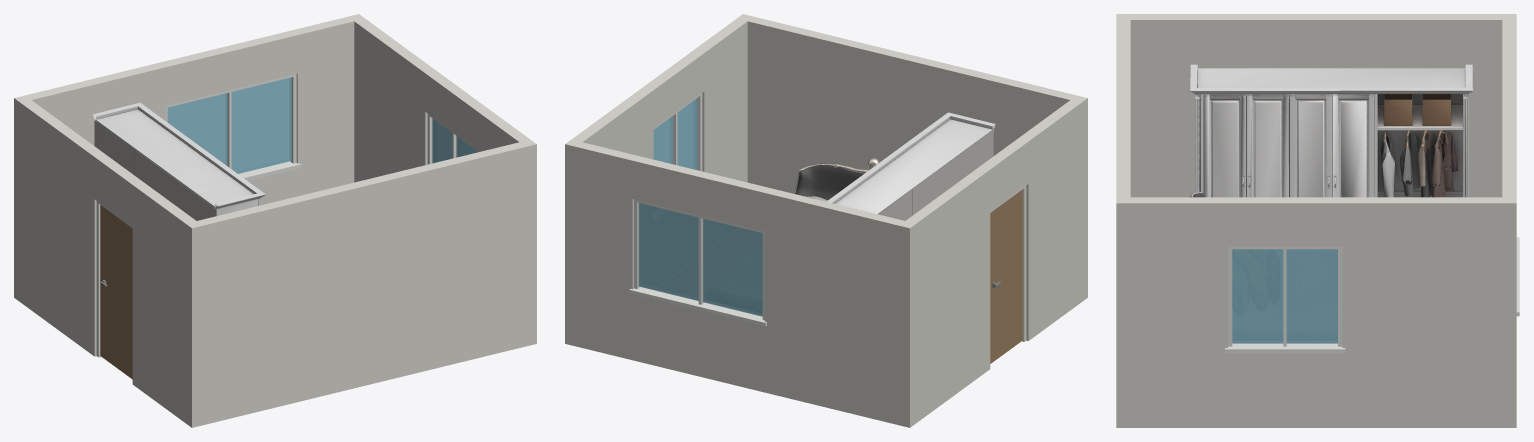
File: instructscene.glb
The picture shows the model from 3 angles, left to right: view 1: azimuth 30°, elevation 25°; view 2: azimuth 150°, elevation 25°; view 3: azimuth 270°, elevation 25°; orthographic projection. The views are drawn at different scales.
Parts seen in each view (by area): view 1: wall|scenesmith_000__R00|0, wall|scenesmith_000__R00|2, wall|scenesmith_000__R00|1, wall|scenesmith_000__R00|3, raw_model.001, wall|scenesmith_000__R00|1 Window 0 | glazing, wall|scenesmith_000__R00|2 Door 0 | wood leaf, wall|scenesmith_000__R00|1 Window 0 | jamb, wall|scenesmith_000__R00|3 Window 0 | glazing, wall|scenesmith_000__R00|2 Door 0 | jamb, wall|scenesmith_000__R00|3 Window 0 | jamb; view 2: wall|scenesmith_000__R00|1, wall|scenesmith_000__R00|2, wall|scenesmith_000__R00|0, wall|scenesmith_000__R00|3, wall|scenesmith_000__R00|1 Window 0 | glazing, raw_model.001, wall|scenesmith_000__R00|2 Door 0 | wood leaf, wall|scenesmith_000__R00|1 Window 0 | jamb, wall|scenesmith_000__R00|3 Window 0 | glazing, raw_model, wall|scenesmith_000__R00|3 Window 0 | jamb, wall|scenesmith_000__R00|2 Door 0 | jamb; view 3: wall|scenesmith_000__R00|3, raw_model.001, wall|scenesmith_000__R00|2, wall|scenesmith_000__R00|3 Window 0 | glazing, wall|scenesmith_000__R00|3 Window 0 | jamb, wall|scenesmith_000__R00|0, wall|scenesmith_000__R00|1.
Boxes of the visible parts, bbox=[...] form: wall|scenesmith_000__R00|0: bbox=[185, 142, 526, 427]; wall|scenesmith_000__R00|2: bbox=[14, 95, 202, 427]; wall|scenesmith_000__R00|1: bbox=[25, 16, 354, 205]; wall|scenesmith_000__R00|3: bbox=[348, 14, 536, 346]; raw_model.001: bbox=[92, 102, 265, 220]; wall|scenesmith_000__R00|1 Window 0 | glazing: bbox=[167, 77, 291, 173]; wall|scenesmith_000__R00|2 Door 0 | wood leaf: bbox=[100, 205, 132, 379]; wall|scenesmith_000__R00|1 Window 0 | jamb: bbox=[165, 74, 301, 180]; wall|scenesmith_000__R00|3 Window 0 | glazing: bbox=[432, 118, 476, 163]; wall|scenesmith_000__R00|2 Door 0 | jamb: bbox=[96, 201, 132, 357]; wall|scenesmith_000__R00|3 Window 0 | jamb: bbox=[427, 114, 476, 164]; wall|scenesmith_000__R00|1: bbox=[576, 142, 904, 425]; wall|scenesmith_000__R00|2: bbox=[899, 95, 1087, 427]; wall|scenesmith_000__R00|0: bbox=[747, 16, 1087, 301]; wall|scenesmith_000__R00|3: bbox=[565, 14, 753, 346]; wall|scenesmith_000__R00|1 Window 0 | glazing: bbox=[638, 203, 762, 316]; raw_model.001: bbox=[826, 112, 995, 220]; wall|scenesmith_000__R00|2 Door 0 | wood leaf: bbox=[990, 189, 1022, 363]; wall|scenesmith_000__R00|1 Window 0 | jamb: bbox=[629, 199, 766, 326]; wall|scenesmith_000__R00|3 Window 0 | glazing: bbox=[653, 98, 697, 170]; raw_model: bbox=[794, 158, 879, 201]; wall|scenesmith_000__R00|3 Window 0 | jamb: bbox=[653, 93, 702, 171]; wall|scenesmith_000__R00|2 Door 0 | jamb: bbox=[990, 186, 1026, 341]; wall|scenesmith_000__R00|3: bbox=[1116, 197, 1516, 427]; raw_model.001: bbox=[1190, 64, 1472, 197]; wall|scenesmith_000__R00|2: bbox=[1116, 14, 1516, 197]; wall|scenesmith_000__R00|3 Window 0 | glazing: bbox=[1232, 249, 1337, 343]; wall|scenesmith_000__R00|3 Window 0 | jamb: bbox=[1225, 246, 1345, 353]; wall|scenesmith_000__R00|0: bbox=[1116, 20, 1130, 197]; wall|scenesmith_000__R00|1: bbox=[1502, 20, 1516, 197].
Bounding box in the file's own units: 4.73 × 2.61 × 4.23.
Materials: 9 (3 with a texture image).
